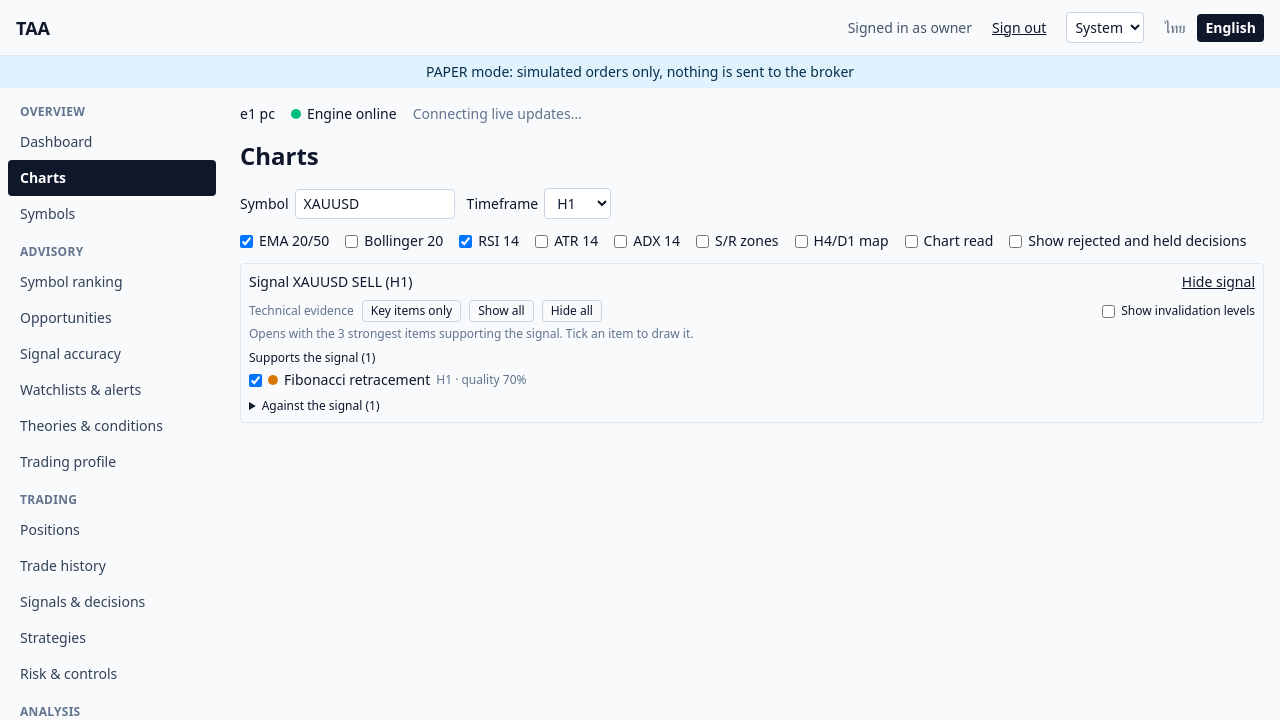
charts page › opens a decision focused on its supporting evidence and adds items from the list
The image size is (1280, 720).
Expected: the text "Signal XAUUSD SELL (H1)" is shown, top-left (249, 272), bottom-right (412, 292)
Step 1. Click the heading "Against the signal (1)" → [321, 406], box top-left (262, 397), bottom-right (380, 414)
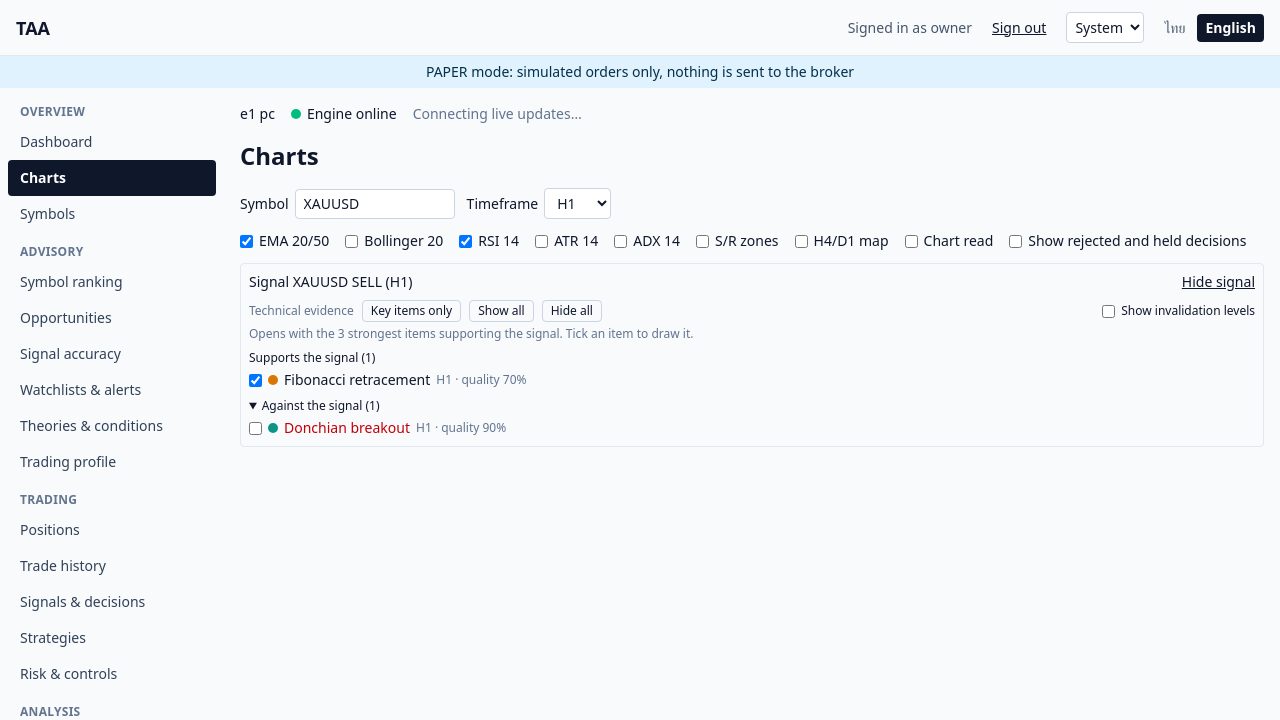
Step 2. Click the checkbox labelled "Donchian breakout H1 · quality 90%" → [256, 428], box top-left (249, 422), bottom-right (262, 434)
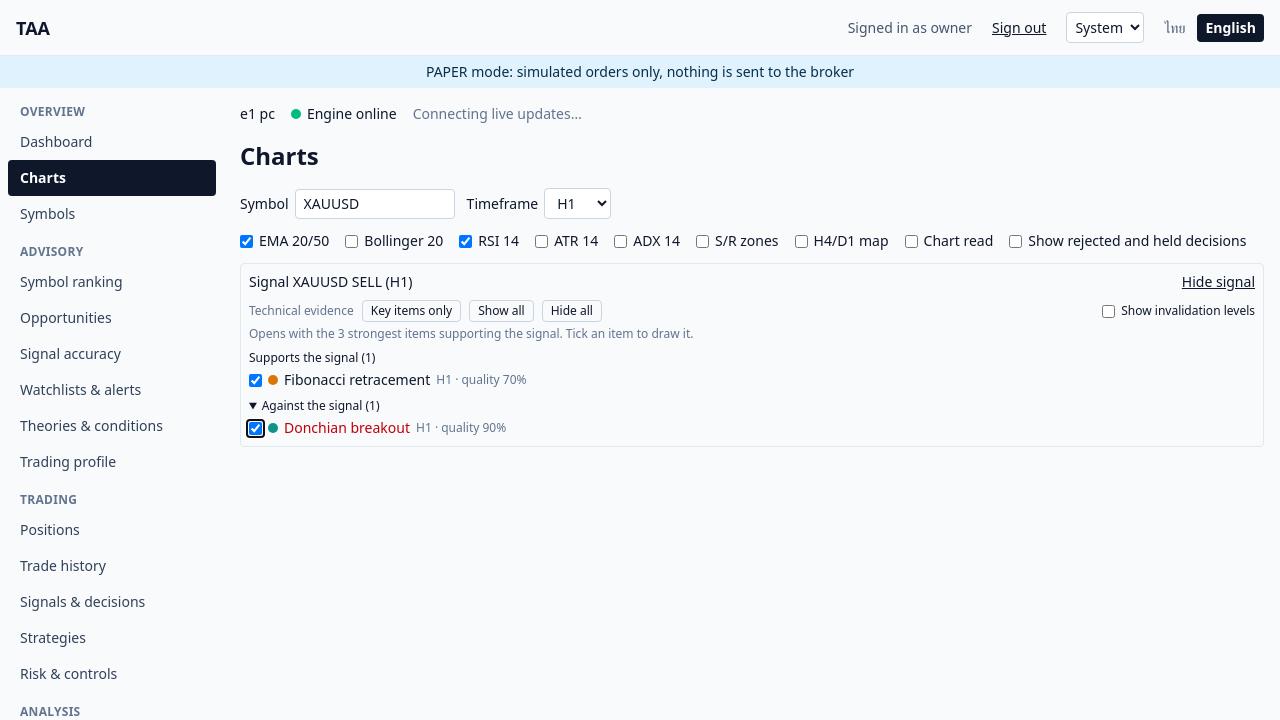
Step 3. Click the checkbox labelled "Show invalidation levels" → [1109, 311], box top-left (1102, 304), bottom-right (1115, 318)
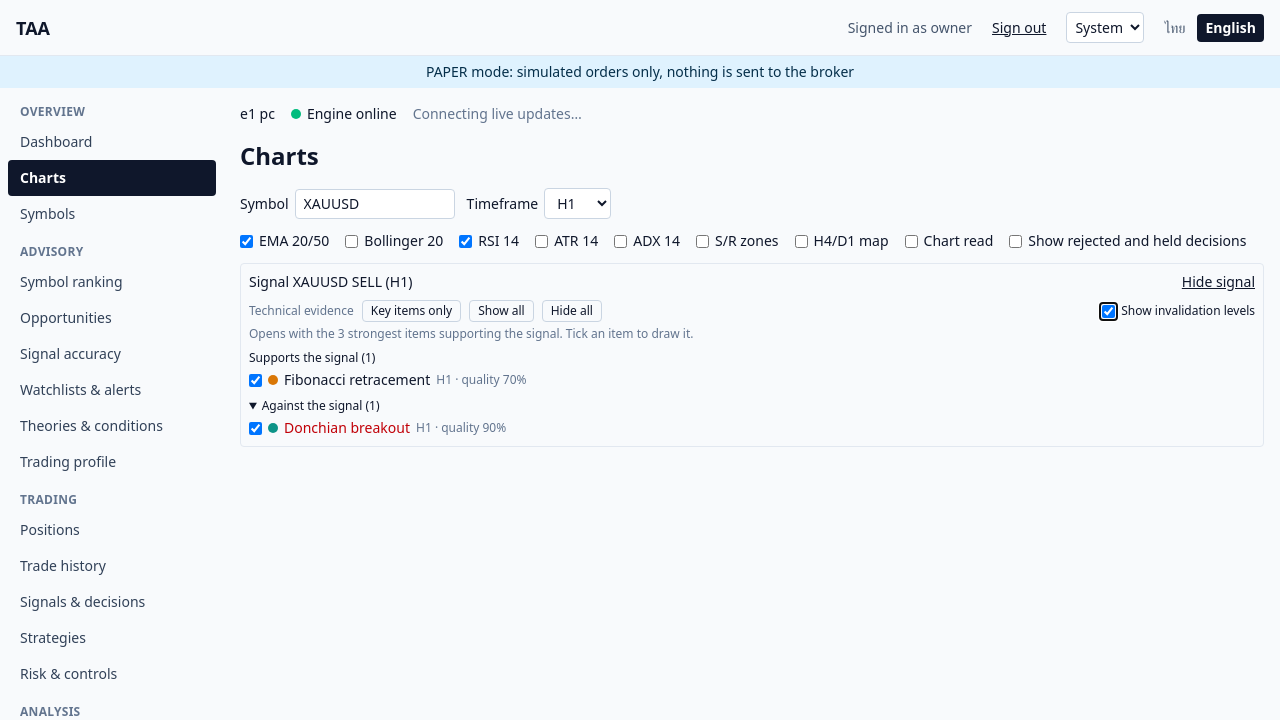
Step 4. Click the checkbox labelled "Fibonacci retracement H1 · quality 70%" → [256, 380], box top-left (249, 374), bottom-right (262, 386)
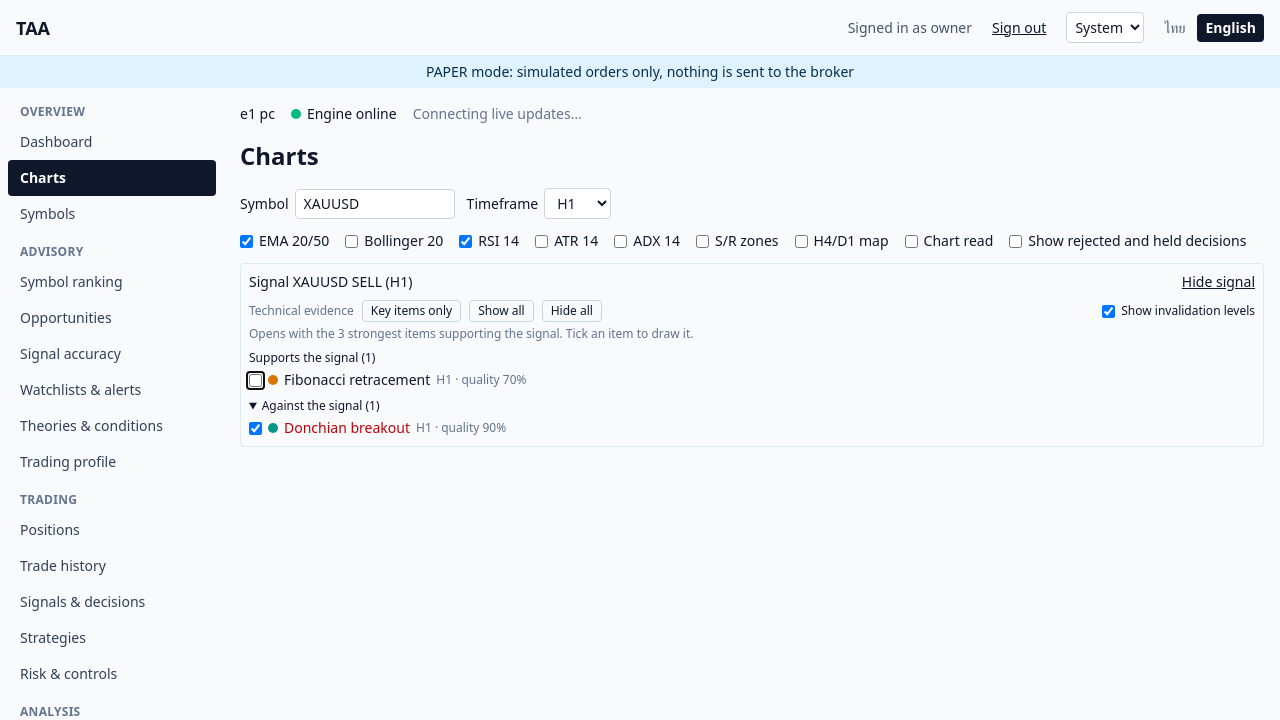
Step 5. Click the button "Key items only" → [412, 311], box top-left (362, 300), bottom-right (461, 322)
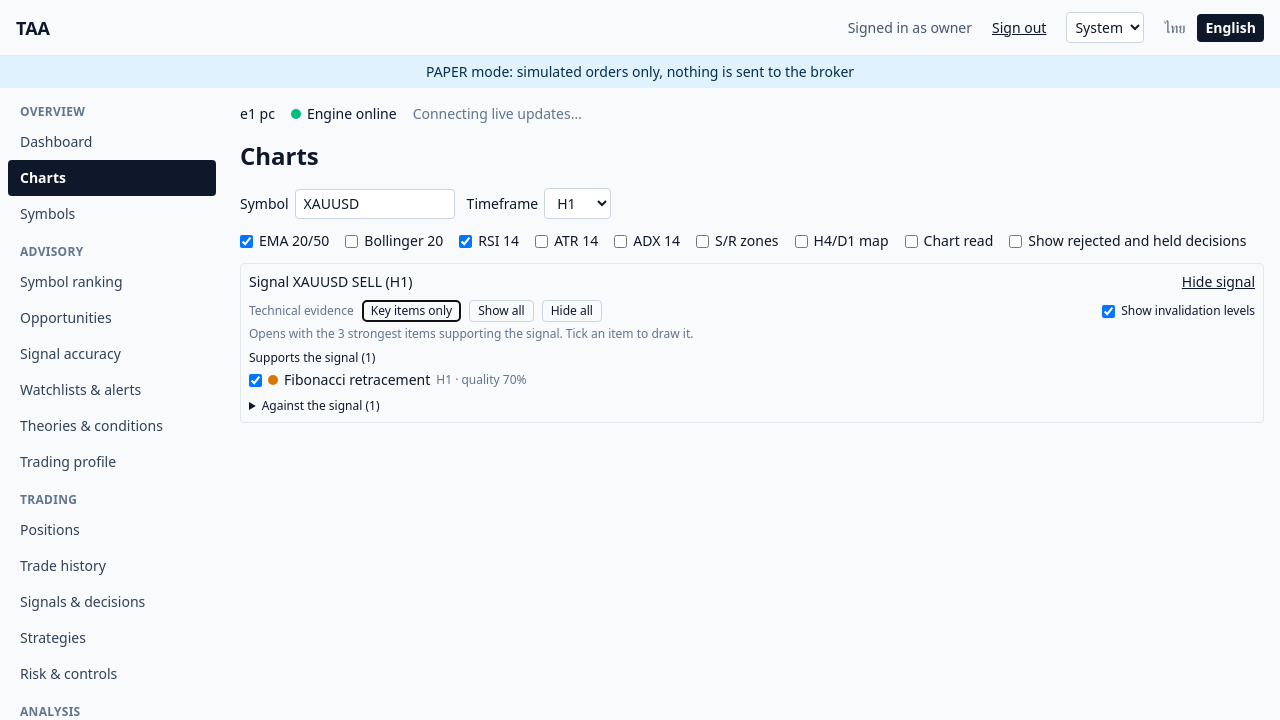
Step 6. Click the button "Hide signal" → [1218, 282], box top-left (1182, 272), bottom-right (1255, 292)
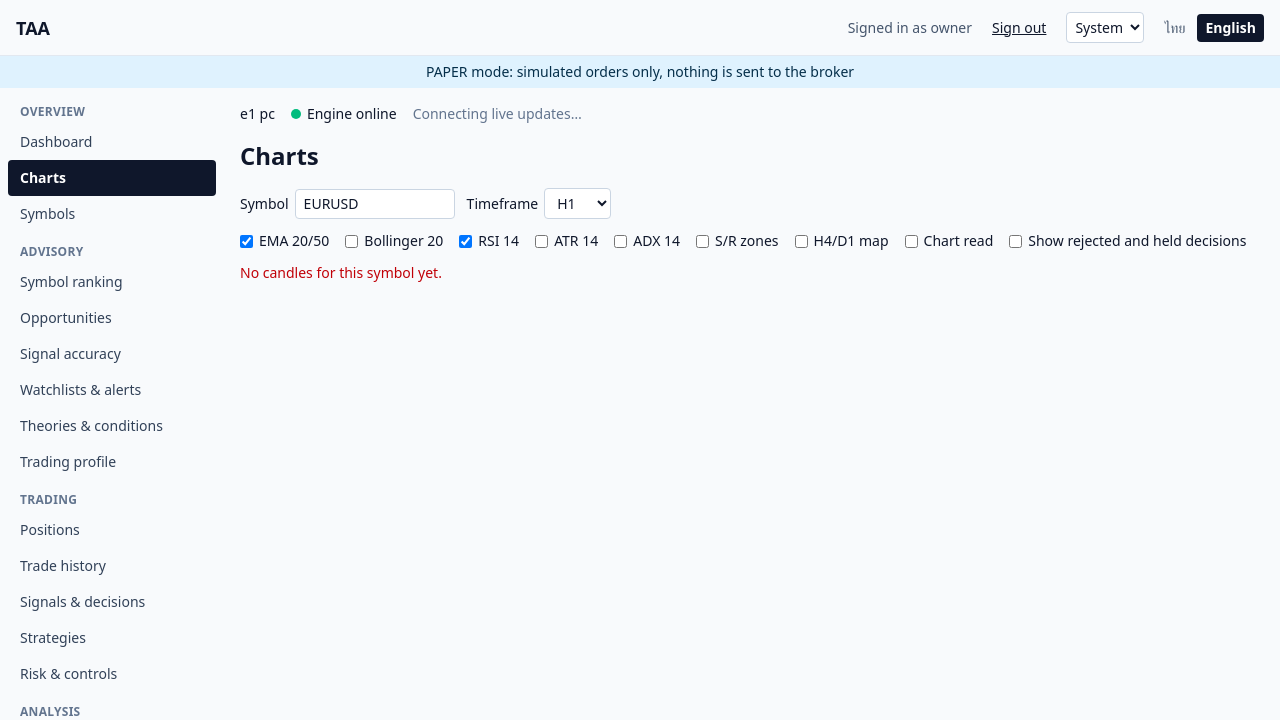
Expected: the text "Signal XAUUSD SELL (H1)" is gone
